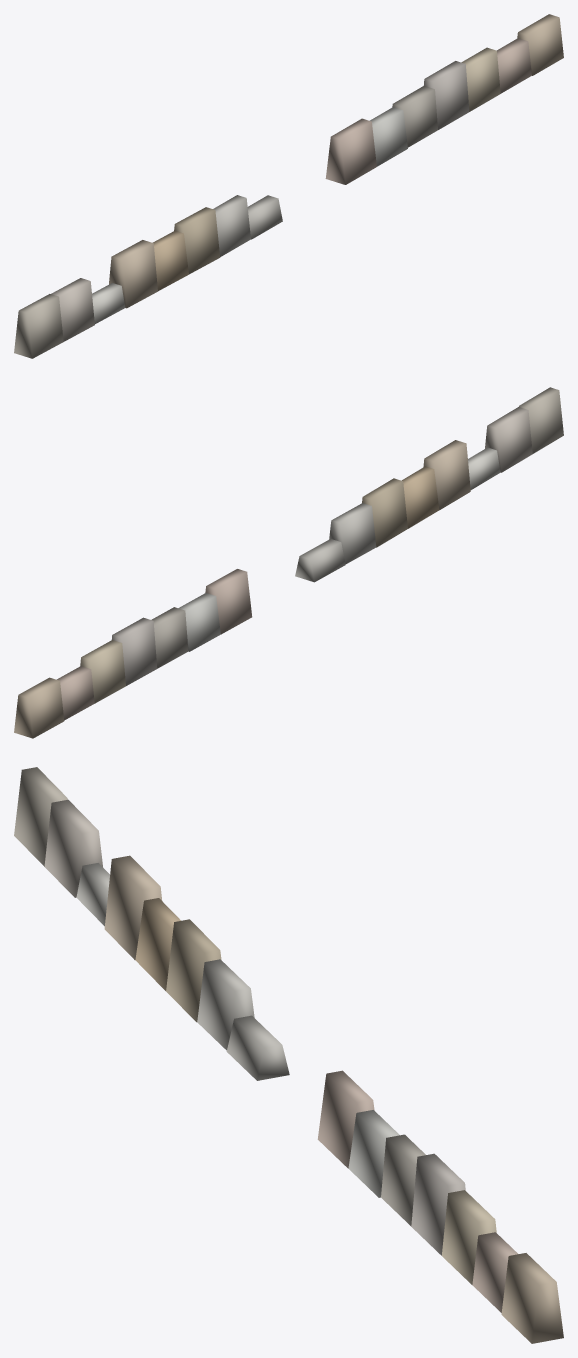
The model's file is farm_31_13_collision.glb.
3 views of the same model, one above another, from view 1: azimuth 30°, elevation 25°; view 2: azimuth 210°, elevation 25°; view 3: azimuth 270°, elevation 25° (orthographic). The views are drawn at different scales.
Parts seen in each view (by area): view 1: geometry_0; view 2: geometry_0; view 3: geometry_0.
Boxes of the visible parts, bbox=[...] form: geometry_0: bbox=[14, 14, 563, 358]; geometry_0: bbox=[14, 387, 563, 738]; geometry_0: bbox=[14, 767, 563, 1343].
Size of the model in its own units: 24.12 by 1.62 by 10.94.
